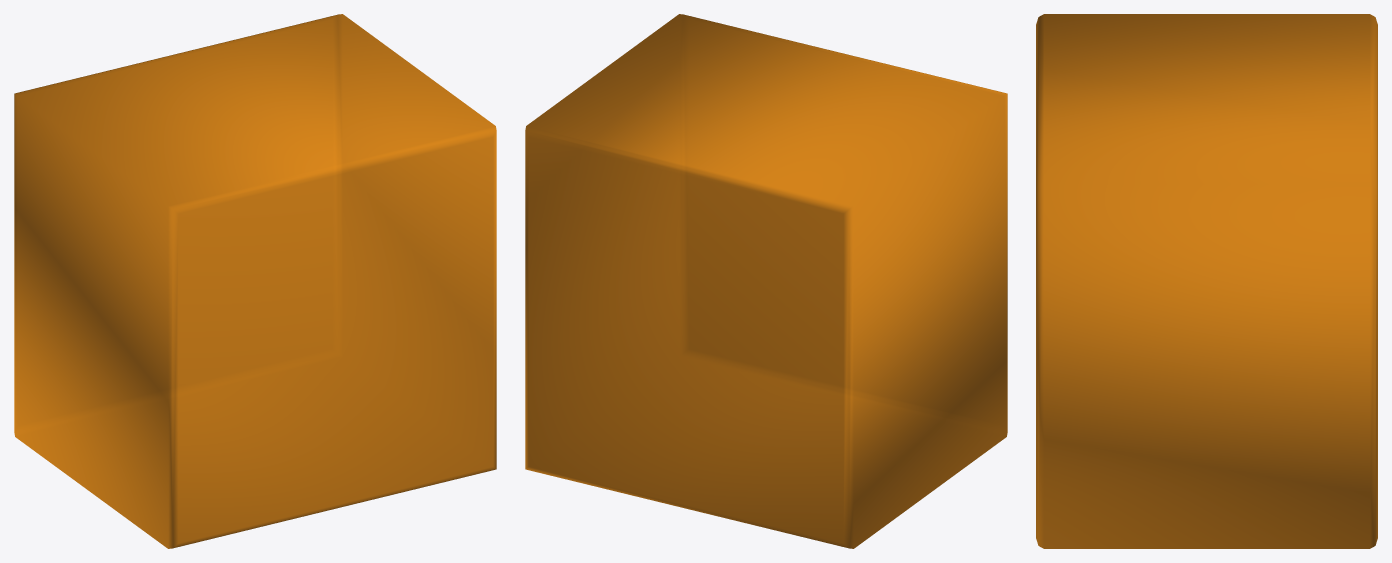
File: ShapeDrop_FinalAssets-CubePlayer-Final-Optimized.fbx
3 views of the same model, side by side, from view 1: azimuth 30°, elevation 25°; view 2: azimuth 150°, elevation 25°; view 3: azimuth 270°, elevation 25° (orthographic). The views are drawn at different scales.
Parts seen in each view (by area): view 1: CubePlayer - Mat-Optimized; view 2: CubePlayer - Mat-Optimized; view 3: CubePlayer - Mat-Optimized.
Boxes of the visible parts, x1,y1,x2,y2 form: CubePlayer - Mat-Optimized: (14,14,496,548); CubePlayer - Mat-Optimized: (525,14,1007,548); CubePlayer - Mat-Optimized: (1036,14,1377,548).
Bounding box in the file's own units: 400 × 400 × 340.
